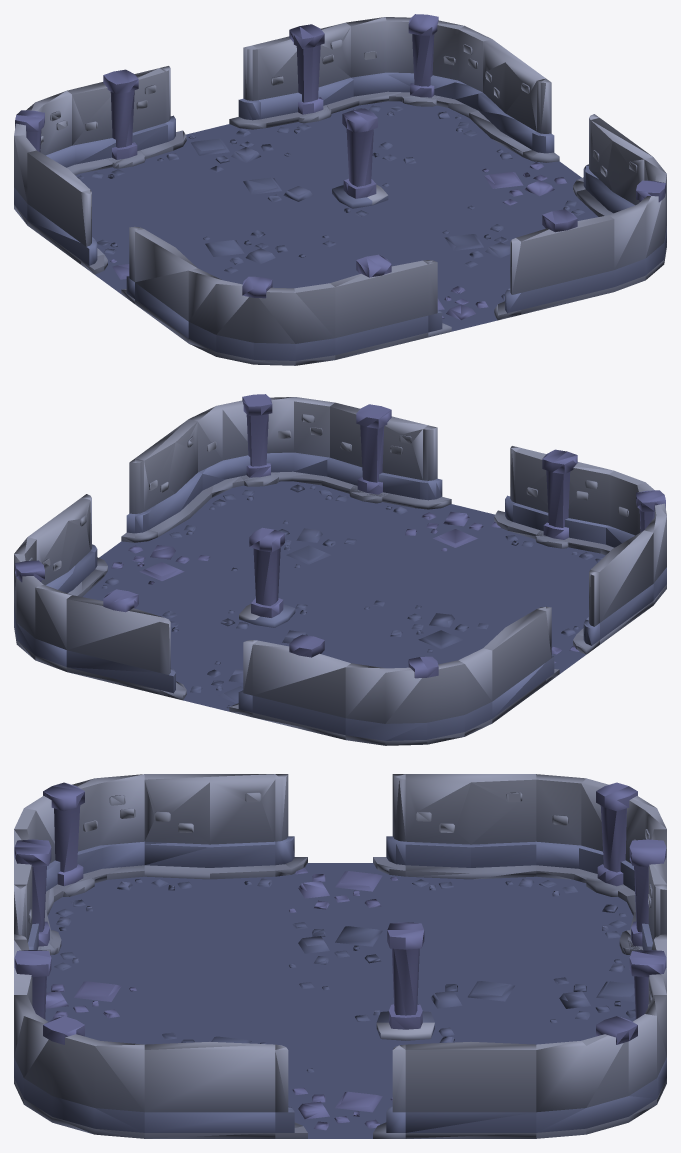
Rendered from room-large_lev2.glb.
3 renders of one model, top to bottom at view 1: azimuth 30°, elevation 25°; view 2: azimuth 150°, elevation 25°; view 3: azimuth 270°, elevation 25°, orthographic. The views are drawn at different scales.
Parts seen in each view (by area): view 1: room-large_lev2; view 2: room-large_lev2; view 3: room-large_lev2.
Part boxes in pixels (box(x1,y1,x2,y2)): room-large_lev2: box(14, 14, 666, 365); room-large_lev2: box(14, 394, 666, 745); room-large_lev2: box(14, 774, 666, 1138).
Size of the model in its own units: 20 by 3.33 by 20.
Materials: 1 (1 with a texture image).
